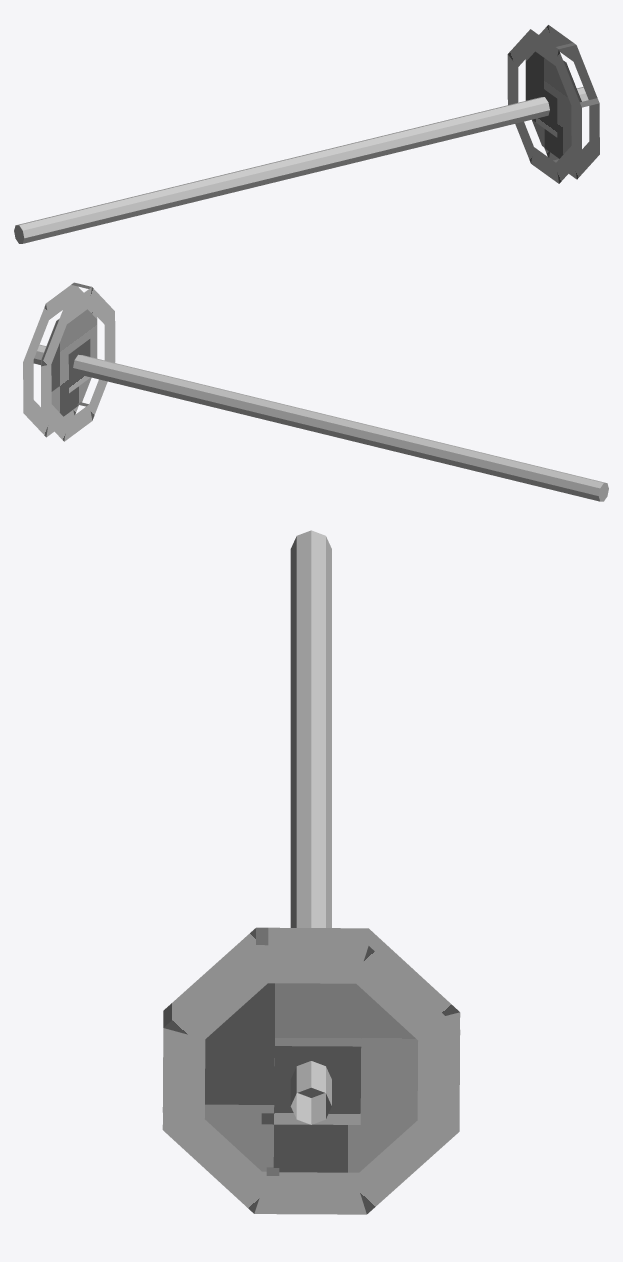
The model's file is axle.obj.
The picture shows the model from 3 angles, top to bottom: view 1: azimuth 30°, elevation 25°; view 2: azimuth 150°, elevation 25°; view 3: azimuth 270°, elevation 25°; orthographic projection. The views are drawn at different scales.
Parts seen in each view (by area): view 1: axle; view 2: axle; view 3: axle.
Part boxes in pixels (box(x1,y1,x2,y2)): axle: box(14, 25, 599, 243); axle: box(23, 282, 608, 501); axle: box(162, 530, 460, 1214).
Size of the model in its own units: 4 by 1.12 by 1.12.
